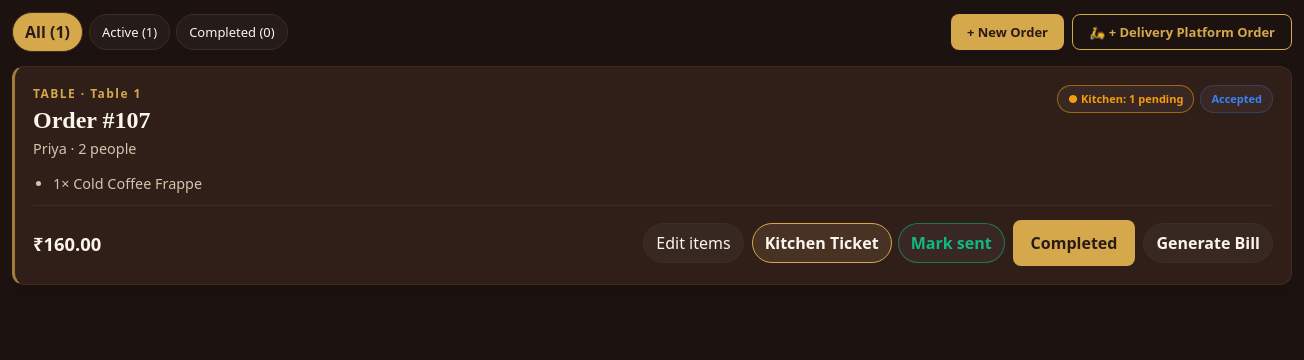
Test: OrderBoard Simplified Workflow & Clean Interface › handles network errors gracefully in a finally block without leaving buttons stuck in busy state
The image size is (1304, 360).
Click the button "Completed": point(1074, 243) top-left (1013, 220), bottom-right (1135, 266)
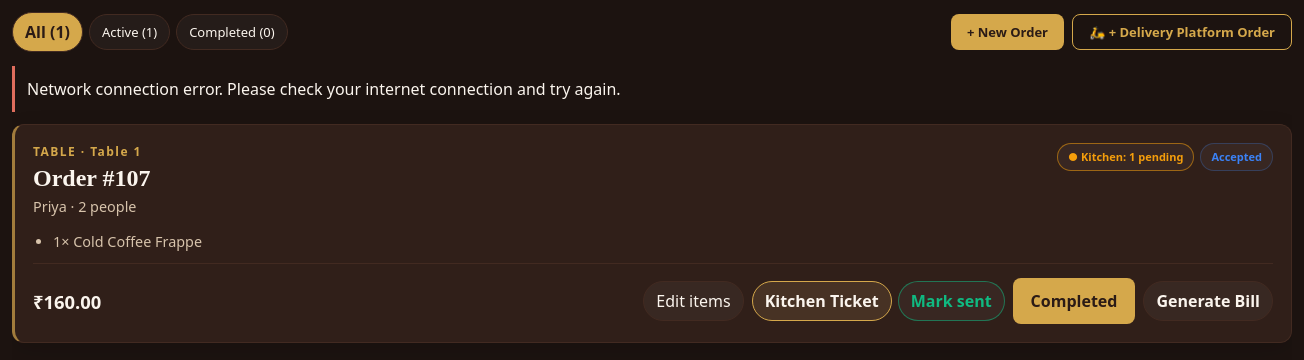
Expected: the button "Completed" is enabled, top-left (1013, 278), bottom-right (1135, 324)
Now the text "Network connection error. Please check your internet connection and try again." is shown, box top-left (12, 66), bottom-right (1292, 112)
